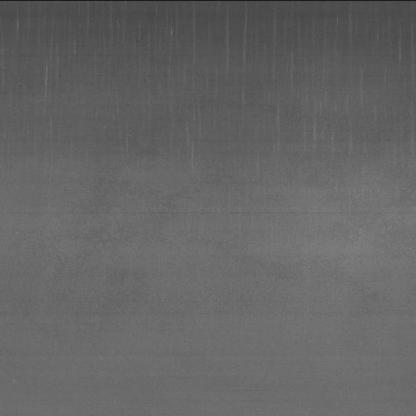waist_folding: (26, 22, 365, 174)
